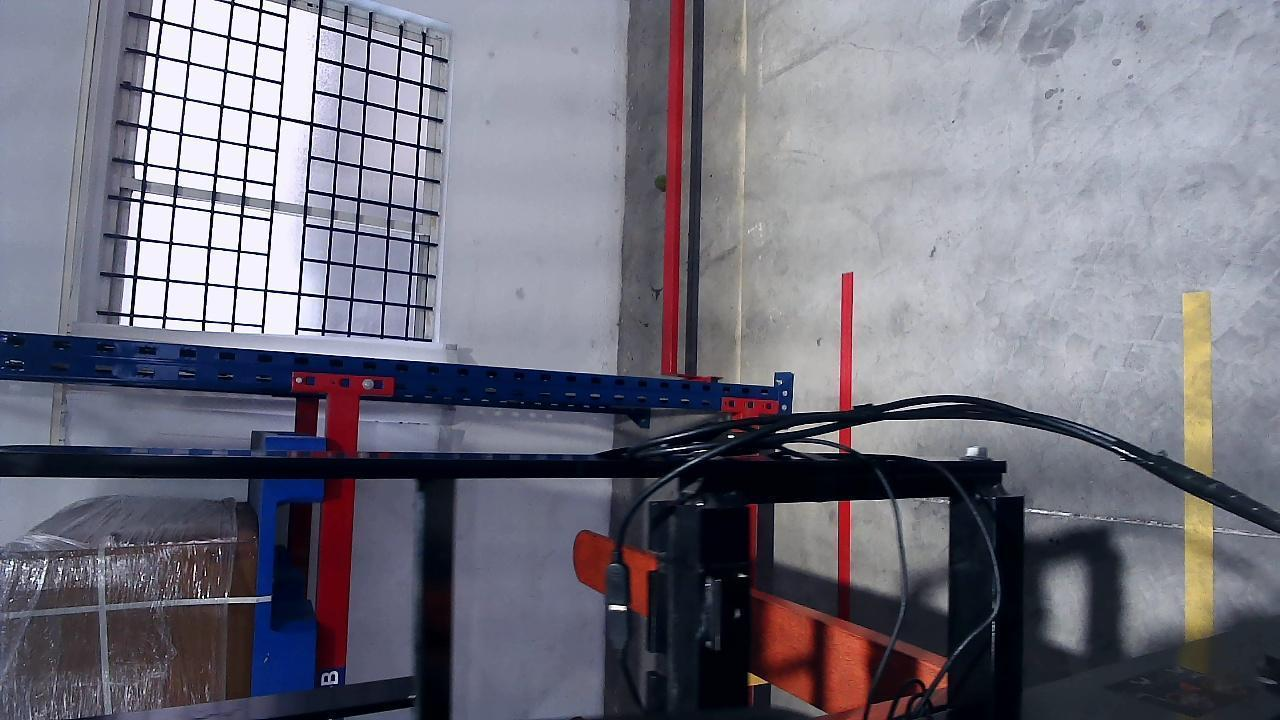red_line: (838, 271, 855, 585)
yellow_line: (1182, 292, 1215, 645)
